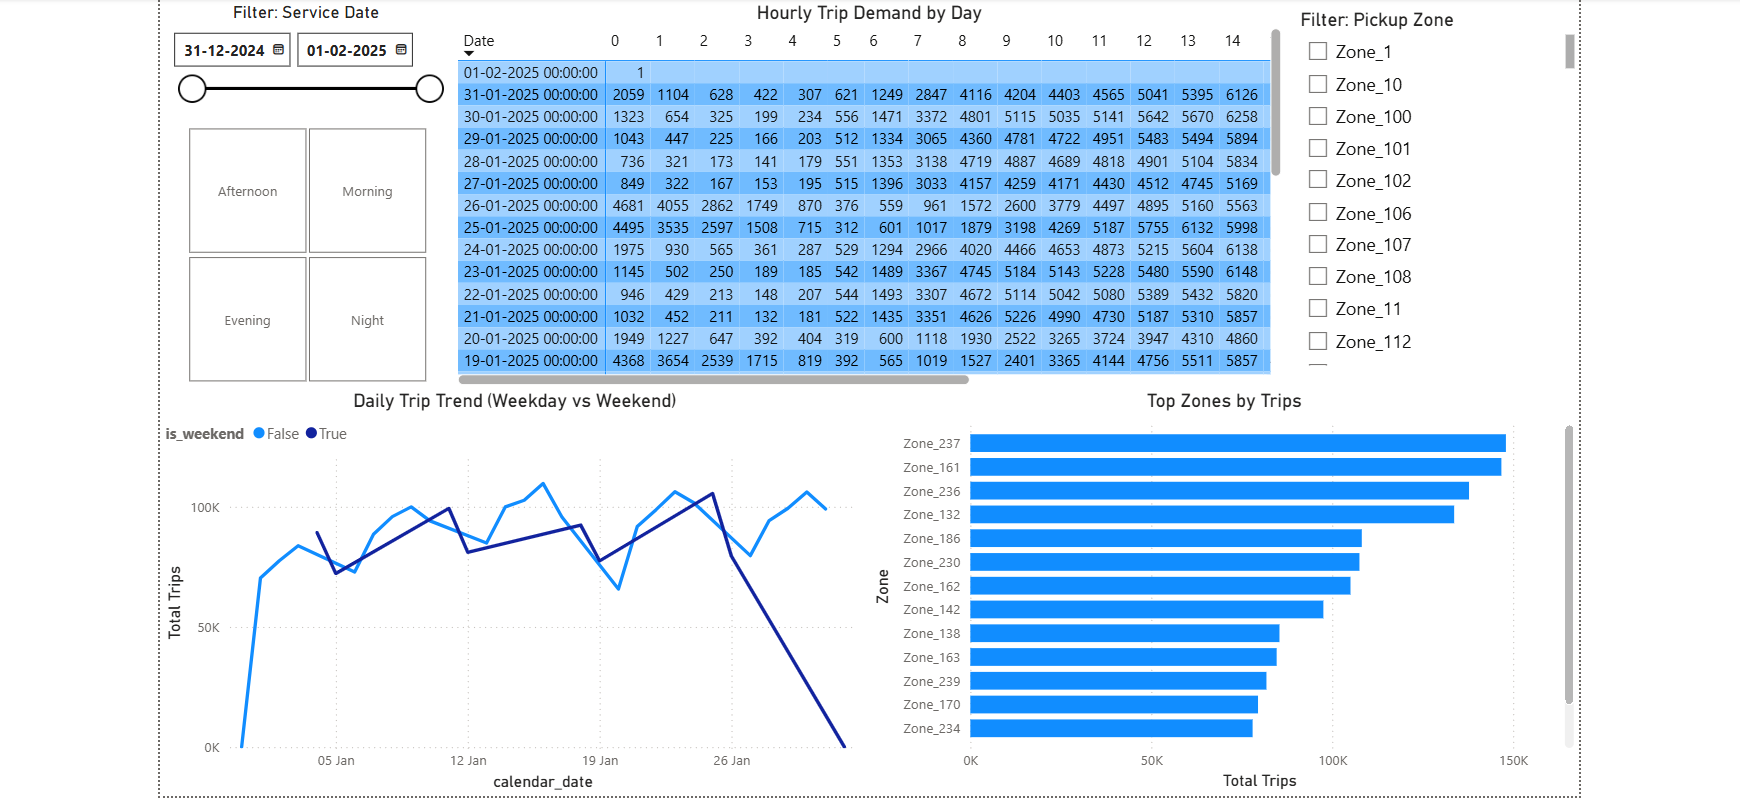

Layout of this report page (visuals, bound fields, positions):
{"tool":"powerbi","page":{"name":"Demand & Capacity","canvas":[1280,720],"ordinal":0},"visuals":[{"type":"slicer","title":"Filter: Service Date","fields":{"Values":["dim_date.calendar_date"]},"box":[0,0,264.2,110.9],"z":0},{"type":"slicer","title":"Filter: Pickup Zone","fields":{"Values":["dim_zone.zone_description"]},"box":[1023.4,8.8,256.9,327],"z":1000},{"type":"pivotTable","title":"Hourly Trip Demand by Day","fields":{"Values":["gold_zone_hour_metrics.Total Trips"],"Rows":["dim_date.calendar_date"],"Columns":["dim_time.pickup_hour"]},"box":[264.2,2.9,751.8,350.4],"z":2000},{"type":"clusteredBarChart","title":"Top Zones by Trips","fields":{"Category":["dim_zone.zone_description"],"Y":["gold_zone_hour_metrics.Total Trips"]},"box":[639.4,353.3,640.9,366.4],"z":3000},{"type":"lineChart","title":"Daily Trip Trend (Weekday vs Weekend)","fields":{"Category":["dim_date.calendar_date"],"Y":["gold_zone_hour_metrics.Total Trips"],"Series":["dim_date.is_weekend"]},"box":[0,353.3,639.4,366.4],"z":4000},{"type":"slicer","title":"Part of Day","fields":{"Values":["dim_time.part_of_day"]},"box":[0,110.9,264.2,242.3],"z":5000}]}

Visuals, with their boxes on the page's 1280x720 design canvas (x1, y1, x2, y2). These are canvas units, not pixel positions in the 1740x802 screenshot, which may show the page scaled, cropped or inside an application window:
"Filter: Service Date" slicer: (x1=0, y1=0, x2=264, y2=111)
"Filter: Pickup Zone" slicer: (x1=1023, y1=9, x2=1280, y2=336)
"Hourly Trip Demand by Day" pivotTable: (x1=264, y1=3, x2=1016, y2=353)
"Top Zones by Trips" clusteredBarChart: (x1=639, y1=353, x2=1280, y2=720)
"Daily Trip Trend (Weekday vs Weekend)" lineChart: (x1=0, y1=353, x2=639, y2=720)
"Part of Day" slicer: (x1=0, y1=111, x2=264, y2=353)
